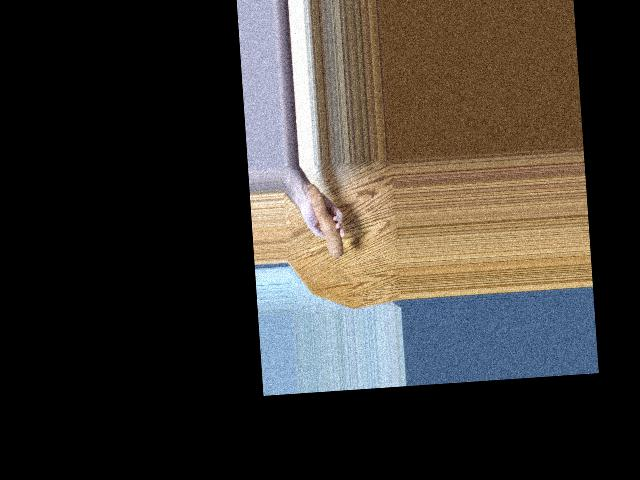sweet_potato: (311, 190, 348, 270)
